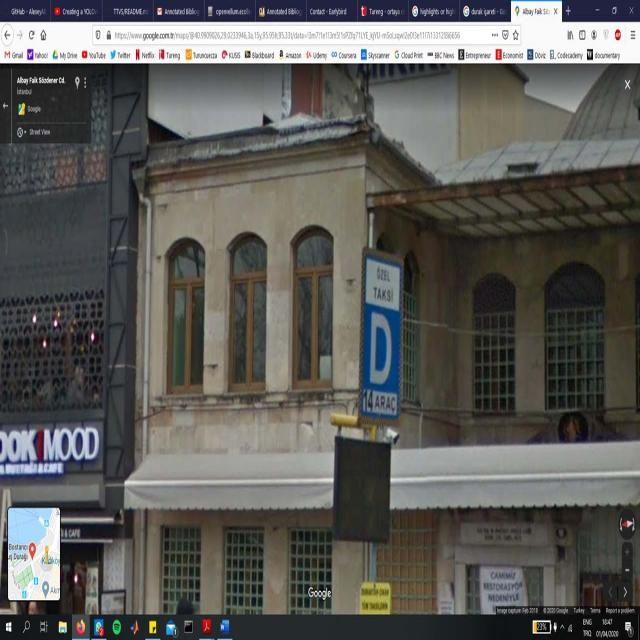durak: (367, 257, 397, 414)
